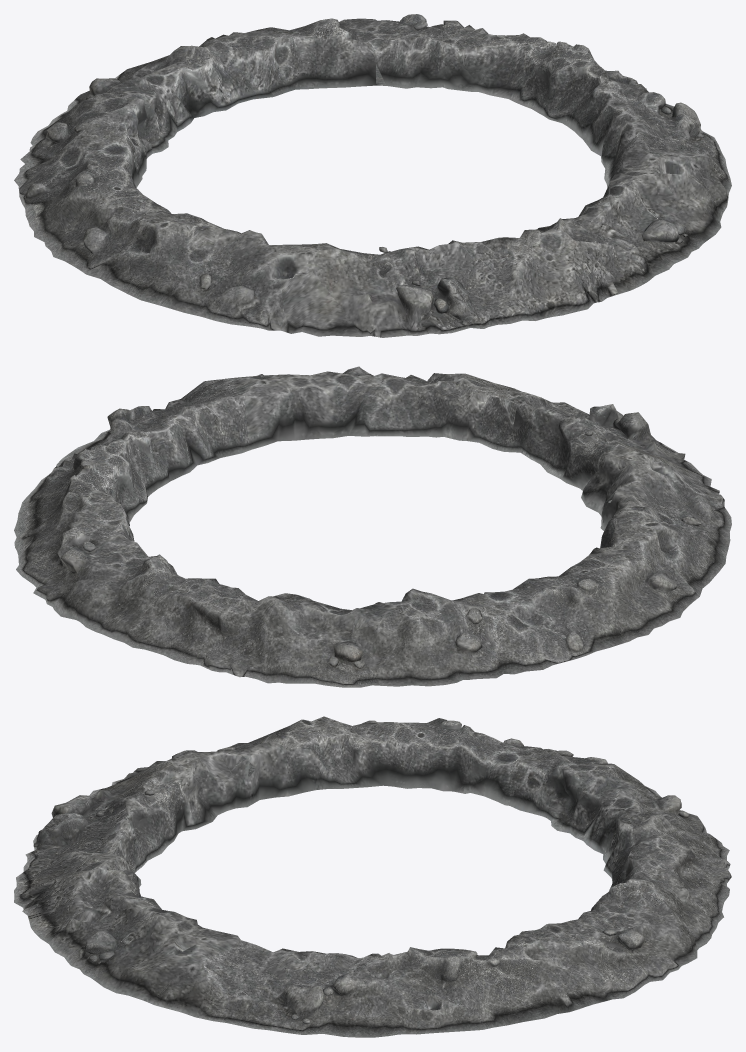
The model's file is AW-MOON-CRATER-001-v0.2.glb.
3 views of the same model, one above another, from view 1: azimuth 30°, elevation 25°; view 2: azimuth 150°, elevation 25°; view 3: azimuth 270°, elevation 25° (orthographic).
Visible parts, largest first — view 1: AW-MOON-CRATER-001_meter_ground_pivot; view 2: AW-MOON-CRATER-001_meter_ground_pivot; view 3: AW-MOON-CRATER-001_meter_ground_pivot.
Boxes of the visible parts, box(x1,y1,x2,y2) form: AW-MOON-CRATER-001_meter_ground_pivot: box(14, 14, 731, 337); AW-MOON-CRATER-001_meter_ground_pivot: box(14, 366, 731, 687); AW-MOON-CRATER-001_meter_ground_pivot: box(14, 716, 731, 1037).
Size of the model in its own units: 18.78 by 1.5 by 18.77.
1 material, 1 textured.
